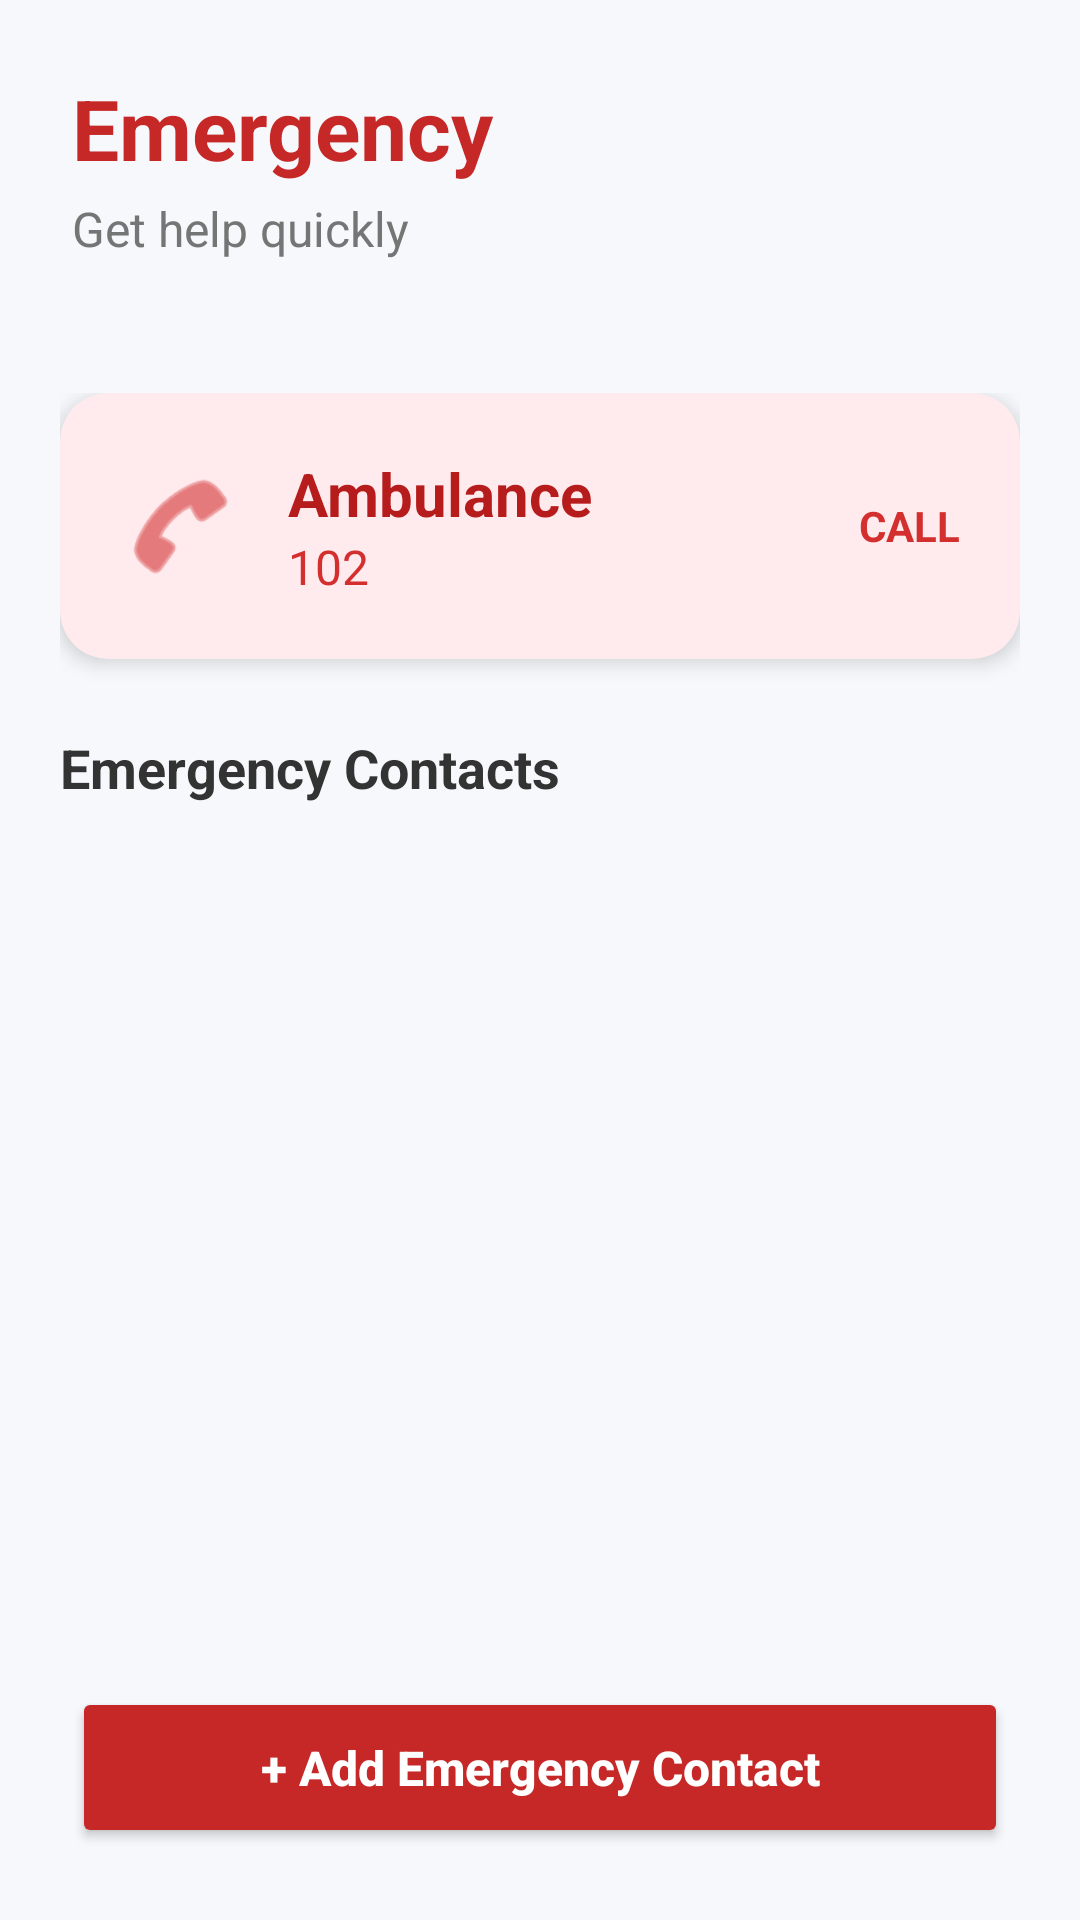

Point at icon controls on the screen. Image size 1080x1920, points as (x=x, y=y).
call: (x=181, y=526)
